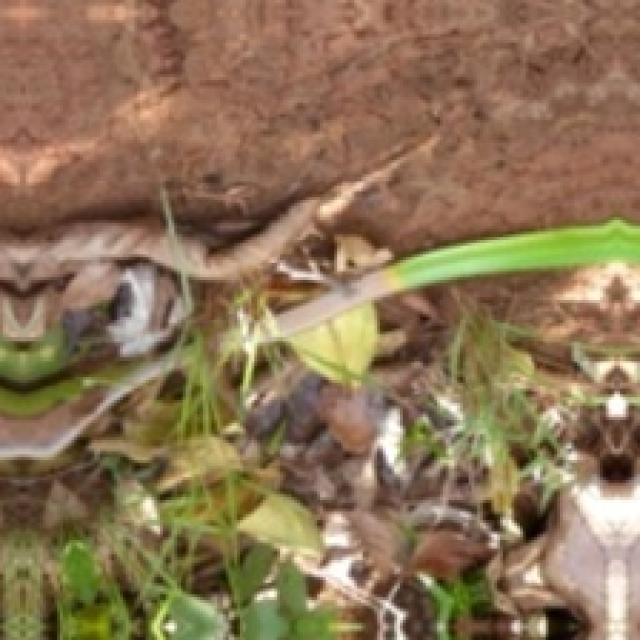red-tailed green ratsnake: (282, 219, 640, 338), (181, 152, 411, 281), (0, 218, 179, 339), (0, 350, 176, 459)
